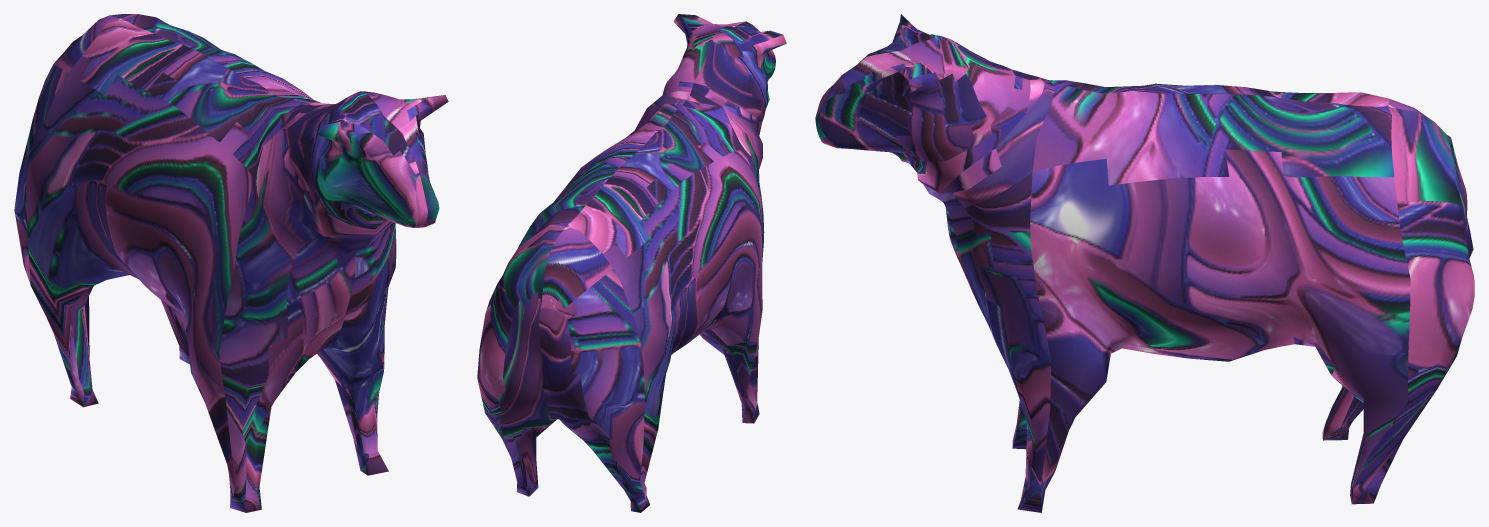
The model's file is sheepies.gltf.
3 renders of one model, left to right at view 1: azimuth 30°, elevation 25°; view 2: azimuth 150°, elevation 25°; view 3: azimuth 270°, elevation 25°, orthographic. The views are drawn at different scales.
Parts seen in each view (by area): view 1: sheep 4; view 2: sheep 4; view 3: sheep 4.
Part boxes in pixels (box(x1,y1,x2,y2)): sheep 4: box(14, 14, 448, 512); sheep 4: box(477, 14, 786, 512); sheep 4: box(815, 14, 1474, 512).
Size of the model in its own units: 0.9825 by 1.84 by 2.45.
Materials: 1 (1 with a texture image).
